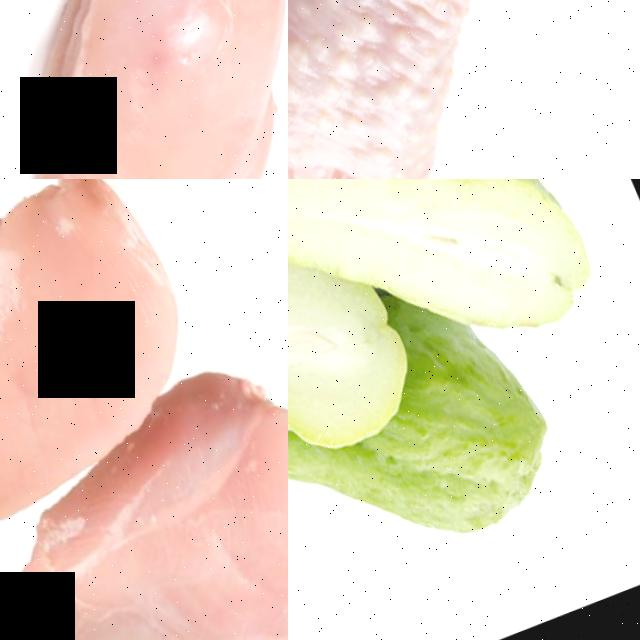chayote: (386, 324, 636, 614), (368, 179, 596, 351), (288, 253, 388, 492)
chicken breast: (0, 179, 244, 559), (0, 373, 288, 640), (0, 0, 288, 179)
chicken thigh: (288, 0, 640, 179)
